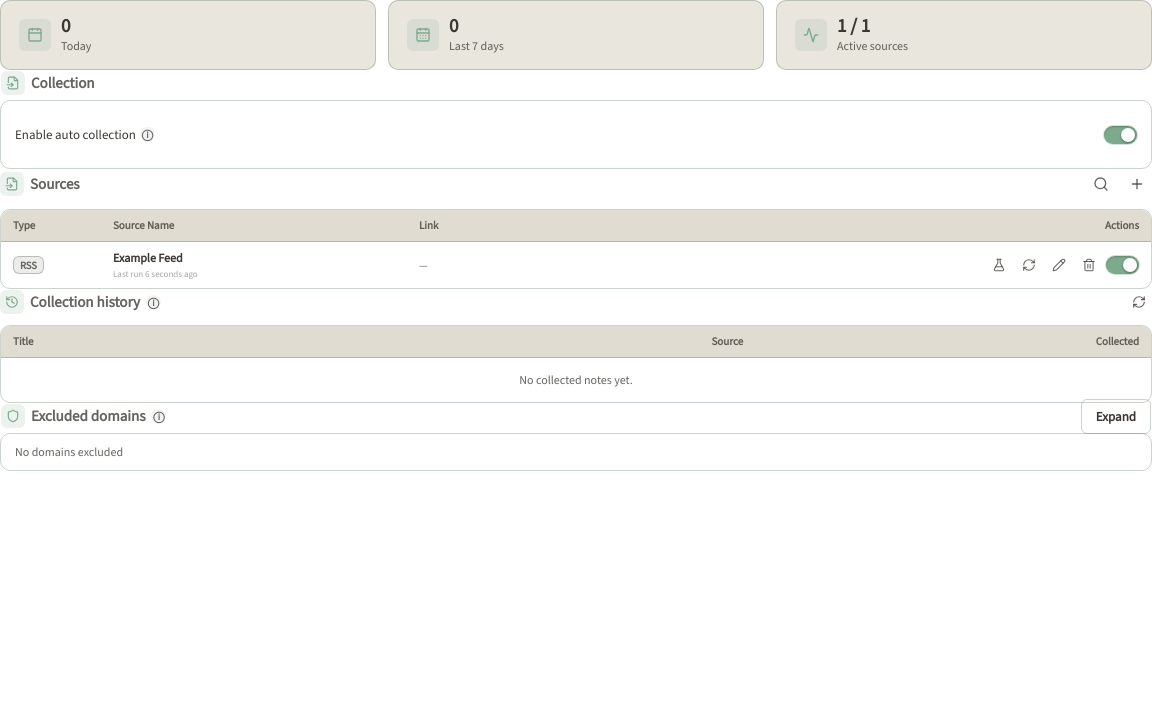
Test case: CollectSection › clicking test fetch (dry run) opens preview modal with dry run items
The width and height of the screenshot is (1152, 720).
Expected: the text "Example Feed" is shown, [113,250,183,266]
Click the button with test id "collect-dry-run-s1" at (999, 265), box [986,252,1012,278]
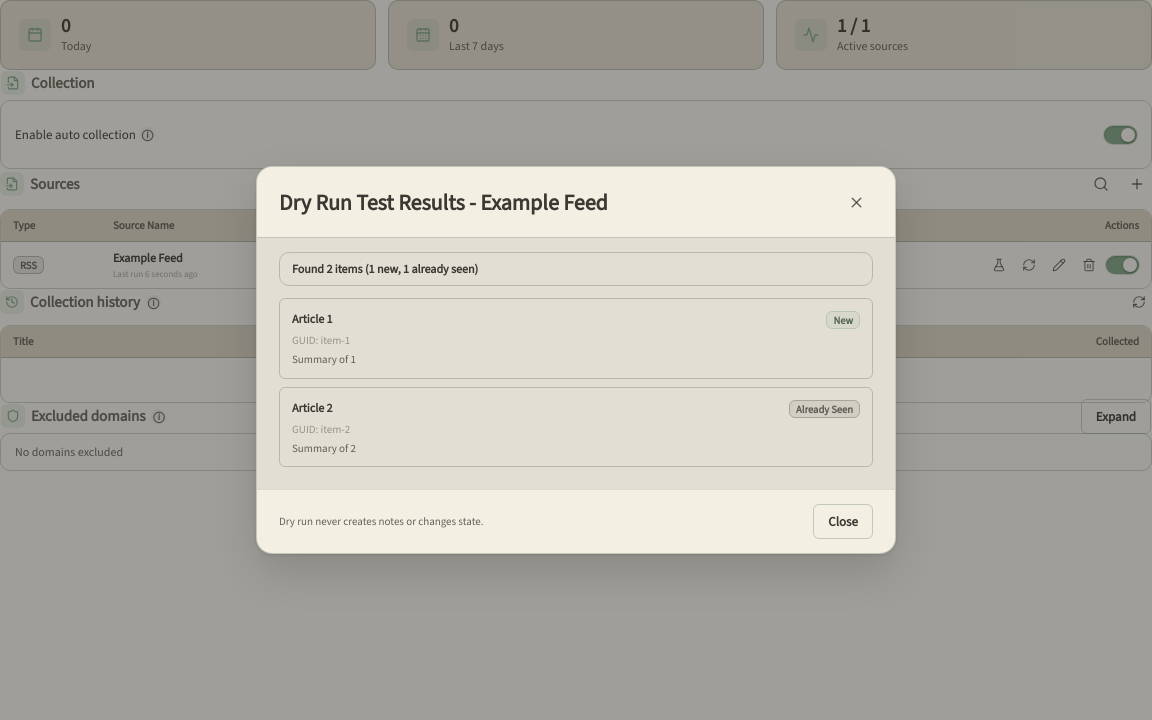
Expected: the heading "Dry Run Test Results - Example Feed" is shown, [279,188,608,217]
Expected: the text "Article 1" is shown, [292,311,333,327]
Expected: the text "Article 2" is shown, [292,400,333,416]
